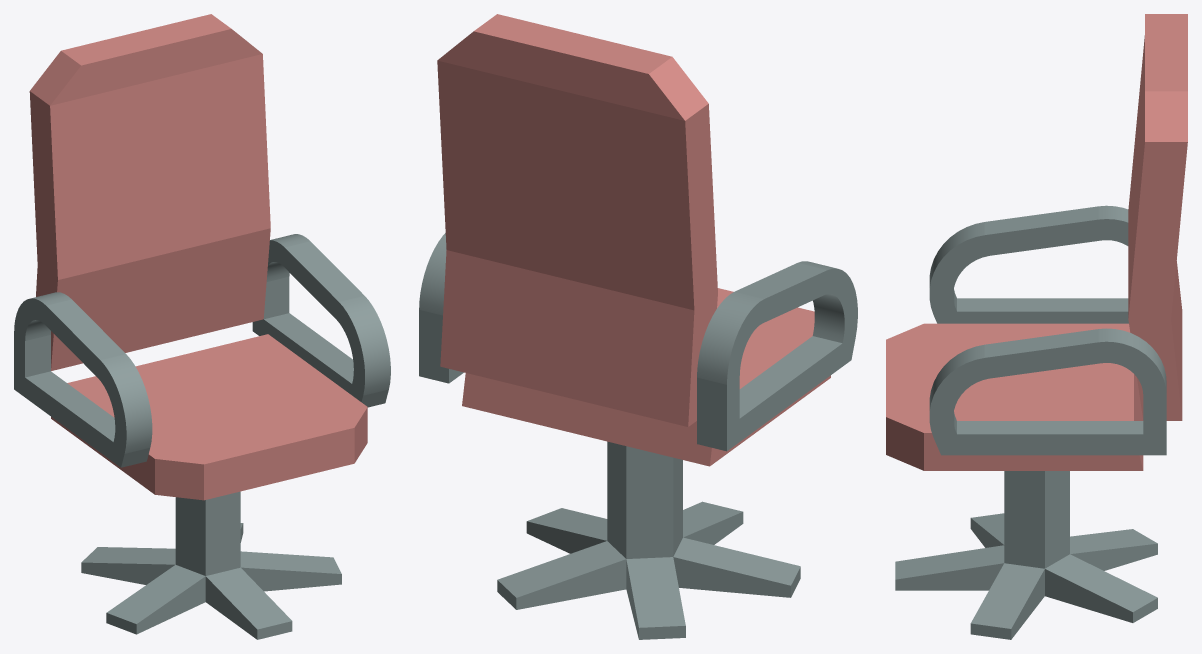
The model's file is chair_office.glb.
3 views of the same model, side by side, from view 1: azimuth 30°, elevation 25°; view 2: azimuth 150°, elevation 25°; view 3: azimuth 270°, elevation 25° (orthographic). The views are drawn at different scales.
Parts seen in each view (by area): view 1: chair_office; view 2: chair_office; view 3: chair_office.
Part boxes in pixels (x1,y1,x2,y2): chair_office: [14, 14, 390, 639]; chair_office: [419, 14, 857, 639]; chair_office: [886, 14, 1187, 639].
Bounding box in the file's own units: 14.33 × 26 × 13.45.
